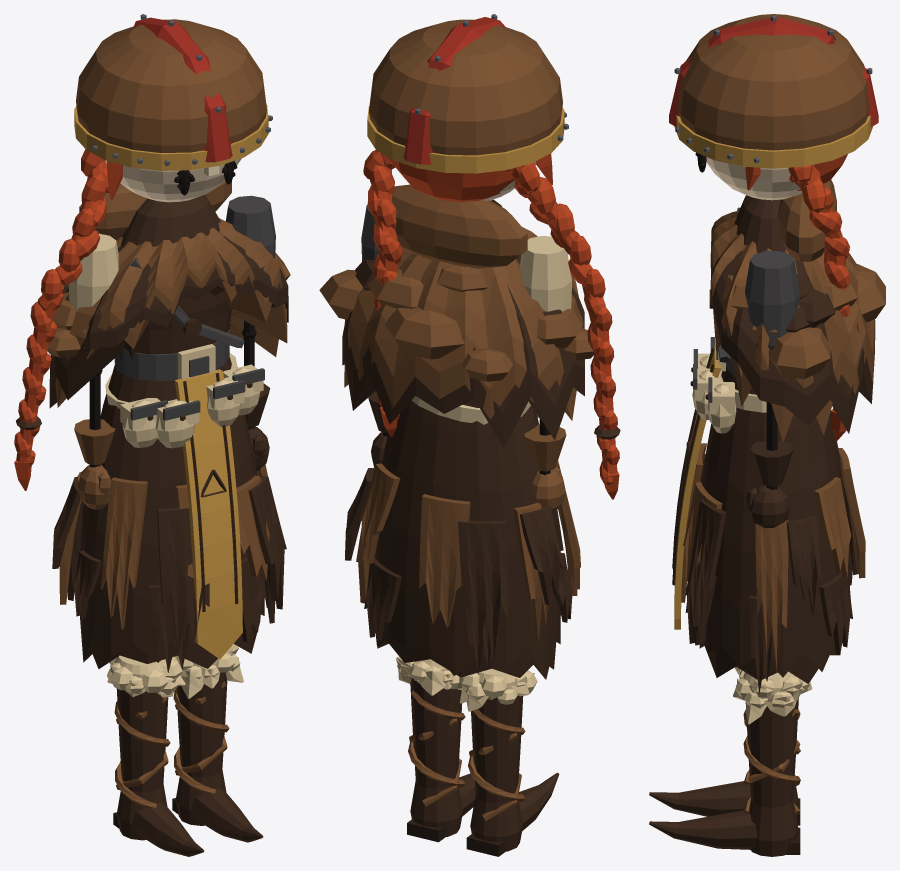
The model's file is raider.obj.
3 renders of one model, left to right at view 1: azimuth 30°, elevation 25°; view 2: azimuth 150°, elevation 25°; view 3: azimuth 270°, elevation 25°, orthographic.
Visible parts, largest first — view 1: Body_29, Body_27, Head_42, Body_30, Tabard_40, Right_Braid_12, Right_Leg_21, Left_Leg_17, Body_28, Body_38, Head_43, Head_44 (+14 smaller); view 2: Body_29, Body_27, Head_42, Body_30, Right_Braid_12, Right_Leg_21, Left_Leg_17, Body_28, Left_Braid_14, Head_43, Head_16, Right_Arm_33 (+9 smaller); view 3: Body_29, Body_27, Head_42, Body_30, Left_Leg_17, Body_28, Left_Arm_31, Head_43, Left_Braid_14, Left_Forearm_25, Body_38, Head_44 (+9 smaller).
Boxes of the visible parts, x1,y1,x2,y2 form: Body_29: (47,181,290,629); Body_27: (80,195,264,662); Head_42: (76,19,266,152); Body_30: (49,236,288,654); Tabard_40: (174,369,242,659); Right_Braid_12: (14,149,109,490); Right_Leg_21: (116,688,204,856); Left_Leg_17: (175,672,263,842); Body_28: (72,545,275,672); Body_38: (105,353,263,448); Head_43: (74,104,268,170); Head_44: (133,17,232,162); Body_29: (319,184,593,643); Body_27: (374,199,560,679); Head_42: (369,19,562,155); Body_30: (342,255,584,665); Right_Braid_12: (505,162,619,499); Right_Leg_21: (470,695,559,851); Left_Leg_17: (410,678,475,836); Body_28: (364,552,573,677); Left_Braid_14: (363,149,402,436); Head_43: (367,106,564,173); Head_16: (388,153,552,202); Right_Arm_33: (520,236,571,311); Body_29: (681,180,885,671); Body_27: (702,195,848,677); Head_42: (678,14,869,150); Body_30: (673,249,874,643); Left_Leg_17: (649,698,798,856); Body_28: (685,552,852,694); Left_Arm_31: (745,251,799,338); Head_43: (674,115,873,168); Left_Braid_14: (788,164,850,441); Left_Forearm_25: (745,441,793,528); Body_38: (692,342,766,433); Head_44: (669,16,878,127).
Bounding box in the file's own units: 0.6228 × 1.69 × 0.444.
